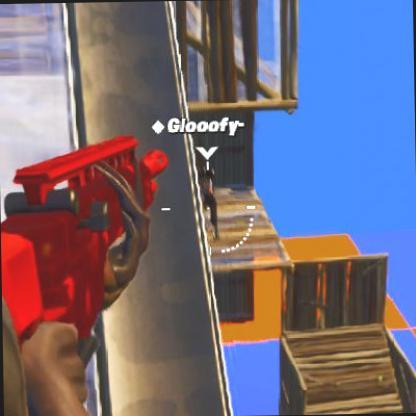person: (200, 166, 222, 236)
